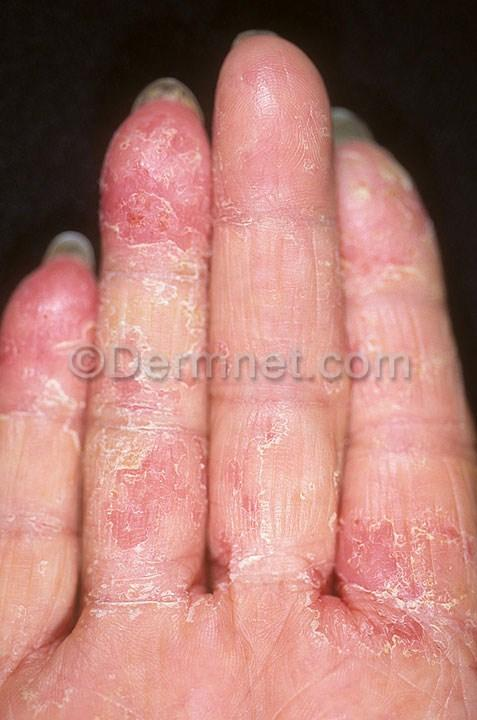Eczema: (102, 114, 214, 633), (284, 497, 439, 665)
